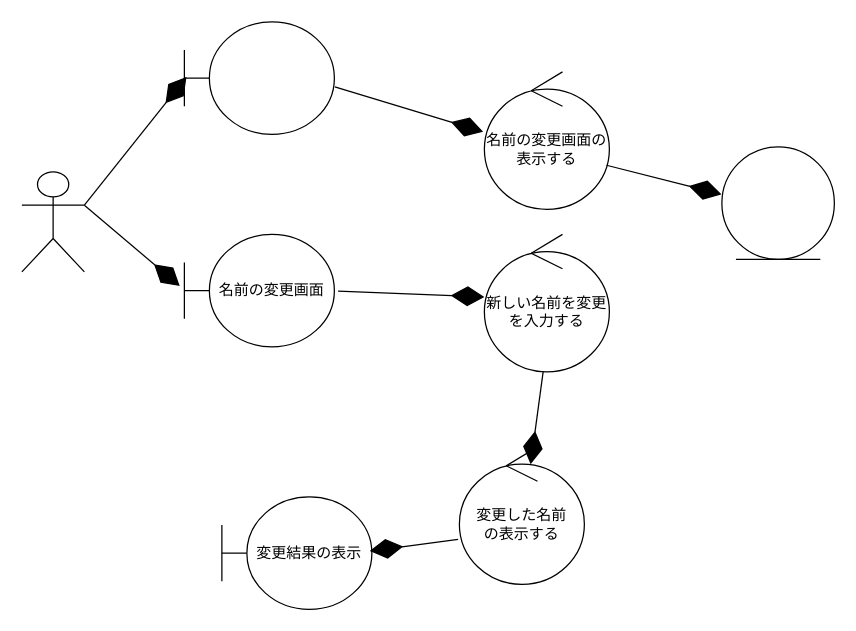
Image size: 856x631. Some labels were removed from this diagram. Each missing label, with the box of its shape:
RoboDog: (721, 146, 834, 259)
RoboDog システムメニュー: (183, 21, 334, 134)
ユーザー: (21, 171, 84, 272)
